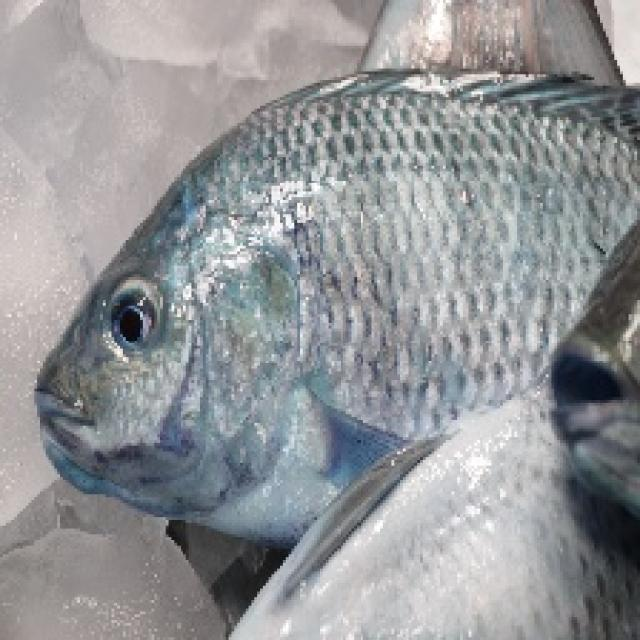Fresh: (19, 99, 640, 506)
